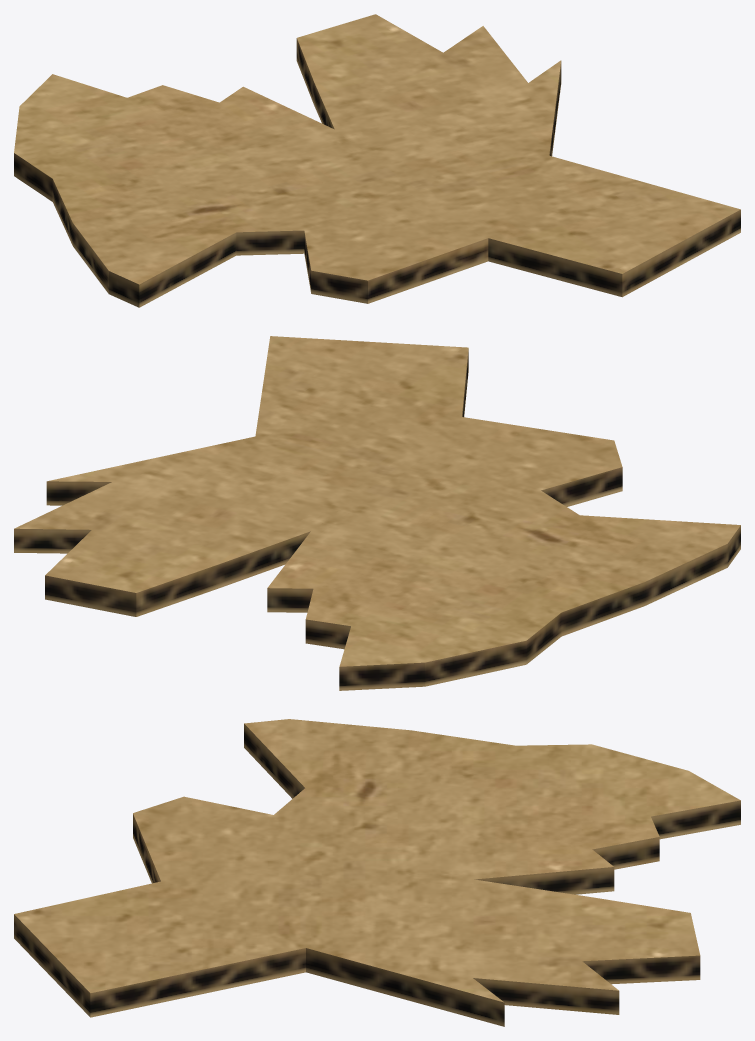
Rendered from SM_CardboardGoodBirdFly.fbx.
3 renders of one model, top to bottom at view 1: azimuth 30°, elevation 25°; view 2: azimuth 150°, elevation 25°; view 3: azimuth 270°, elevation 25°, orthographic. The views are drawn at different scales.
Parts seen in each view (by area): view 1: Mesh_CardboardGudBiurdFly; view 2: Mesh_CardboardGudBiurdFly; view 3: Mesh_CardboardGudBiurdFly.
Part boxes in pixels (<box>): Mesh_CardboardGudBiurdFly: <box>14,14,740,307</box>; Mesh_CardboardGudBiurdFly: <box>14,336,740,690</box>; Mesh_CardboardGudBiurdFly: <box>14,719,740,1026</box>.
Bounding box in the file's own units: 61.04 × 2.44 × 66.12.
